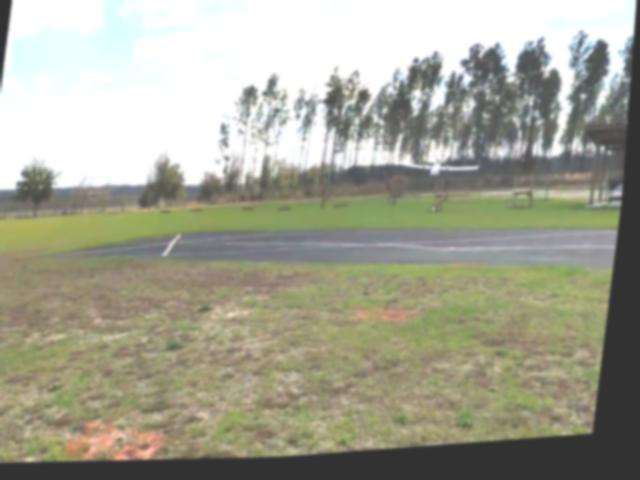plane: (401, 156, 483, 184)
